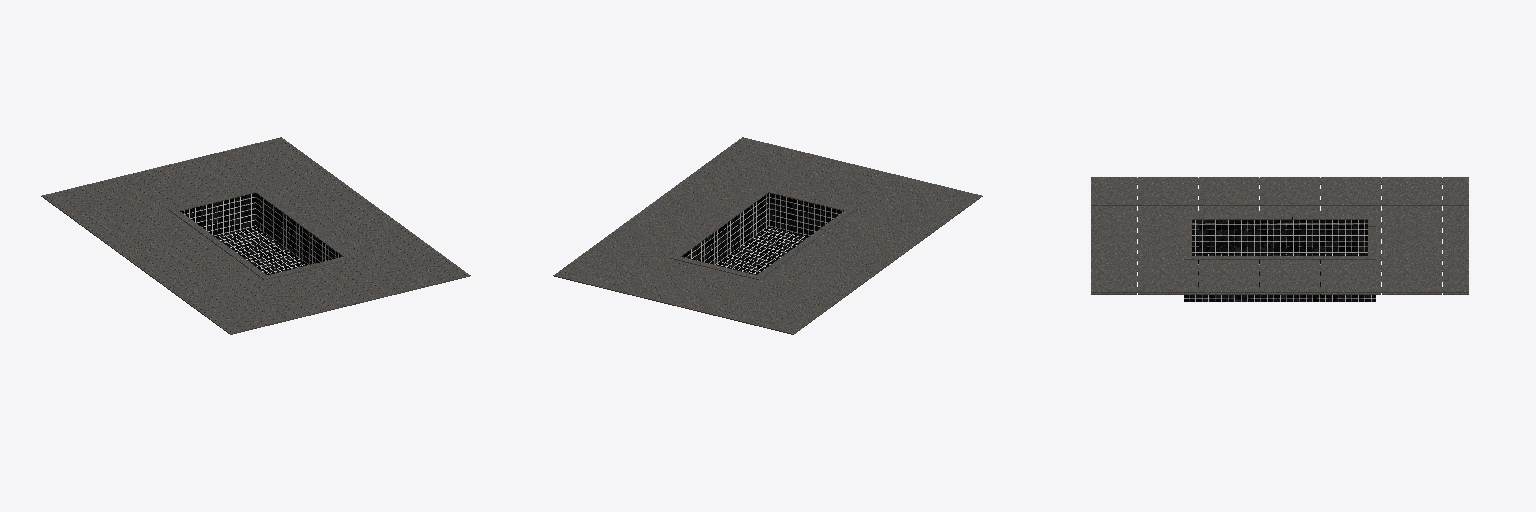
3 renders of one model, left to right at view 1: azimuth 30°, elevation 25°; view 2: azimuth 150°, elevation 25°; view 3: azimuth 270°, elevation 25°, orthographic.
Visible parts, largest first — view 1: Stone_TIles, Pool, PoolEdges; view 2: Stone_TIles, Pool, PoolEdges; view 3: Stone_TIles, Pool, PoolEdges.
Part boxes in pixels (x1,y1,x2,y2): Stone_TIles: (41,137,470,334); Pool: (180,193,341,274); PoolEdges: (169,188,353,279); Stone_TIles: (553,137,982,334); Pool: (682,193,843,274); PoolEdges: (670,188,854,279); Stone_TIles: (1091,177,1468,294); Pool: (1184,217,1375,301); PoolEdges: (1184,216,1375,259).
Bounding box in the file's own units: 40.92 × 6.84 × 55.8.
3 materials, 2 textured.